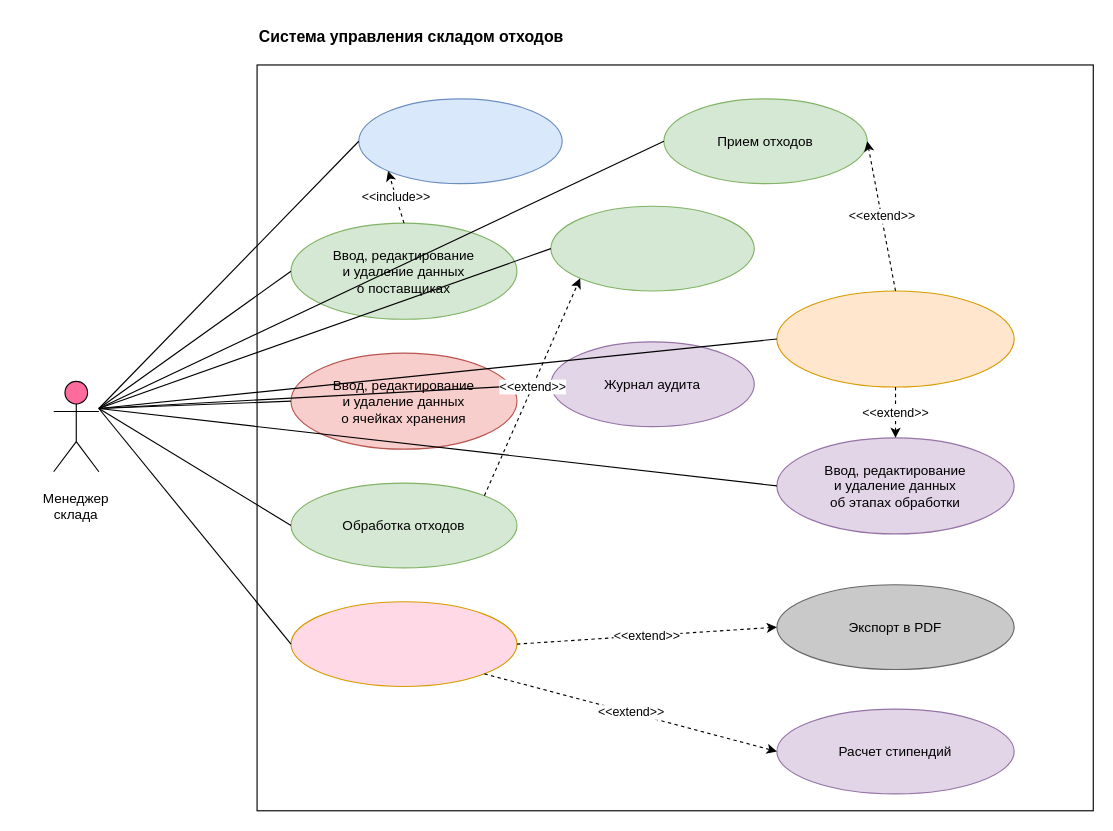
This 1113x831 diagram has some shape labels left out. Each missing label, with the centre of its shape:
"Авторизация" belongs at pixel 460 141.
"Ввод, редактирование и удаление данных о типах отходов" belongs at pixel 895 338.
"Отгрузка продукции" belongs at pixel 652 248.
"Просмотр статистики и отчетов" belongs at pixel 403 643.
